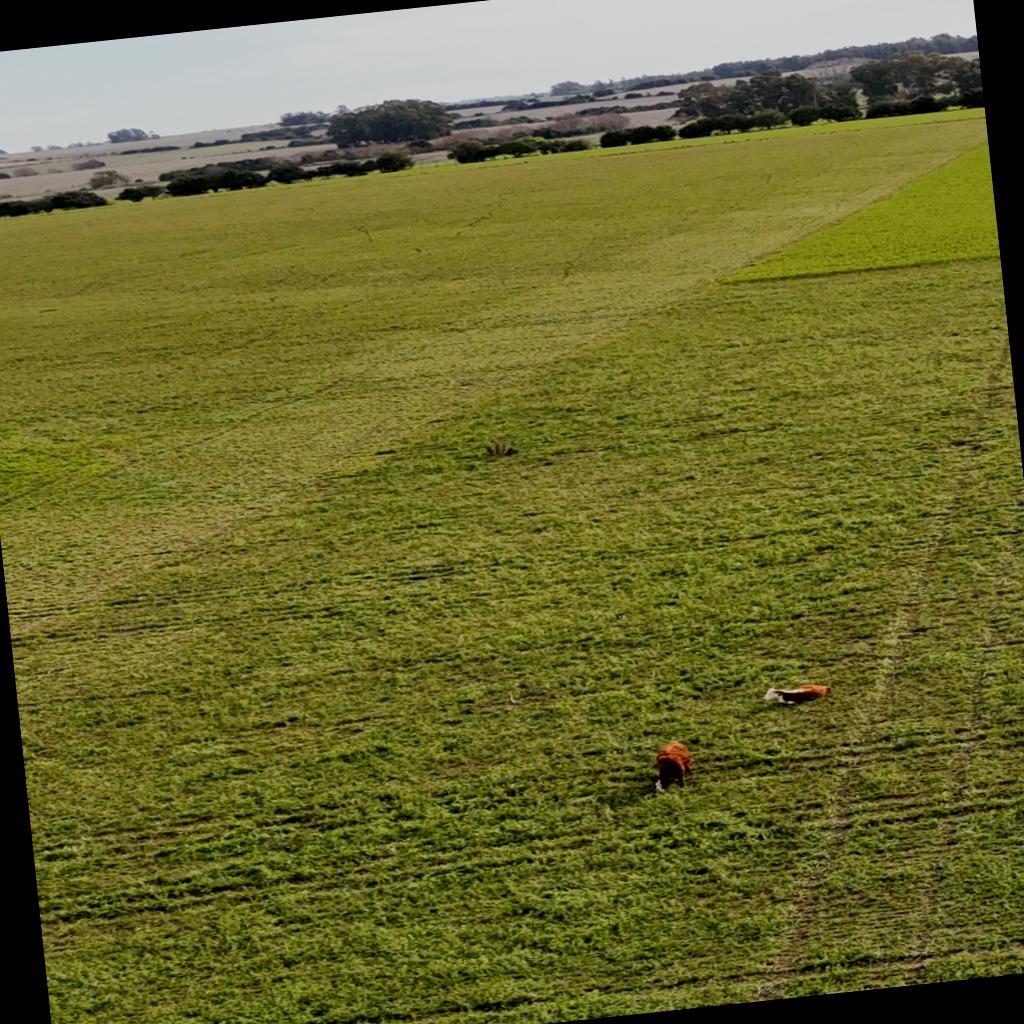cow: (645, 736, 698, 792), (763, 678, 837, 708)
